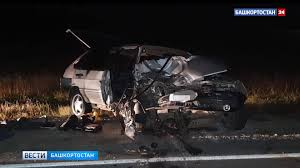car: (61, 29, 253, 130)
